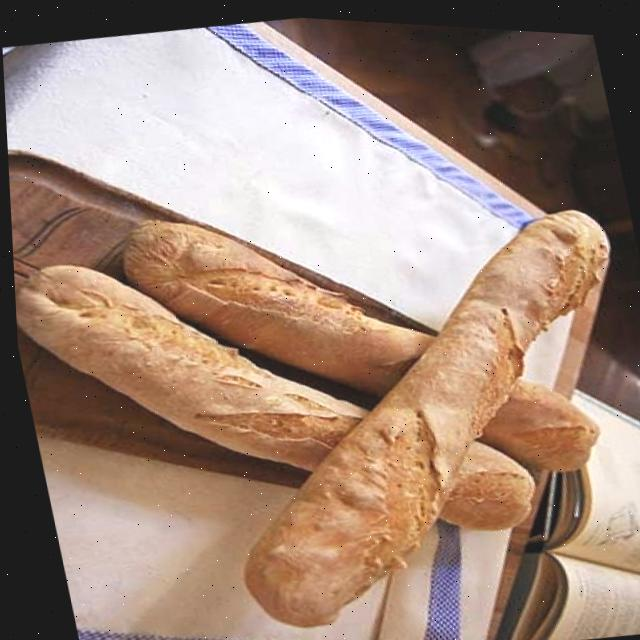面包点心: (2, 51, 640, 640)
